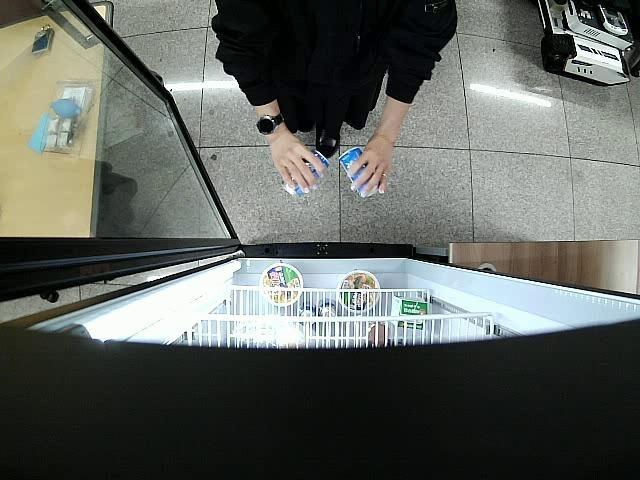15_letsbe: (282, 148, 328, 198), (339, 147, 380, 198)
